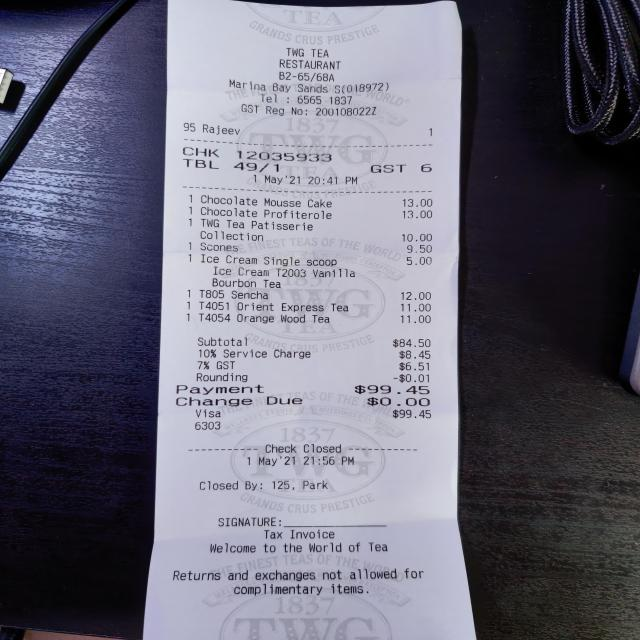bill_region: (169, 190, 440, 398)
